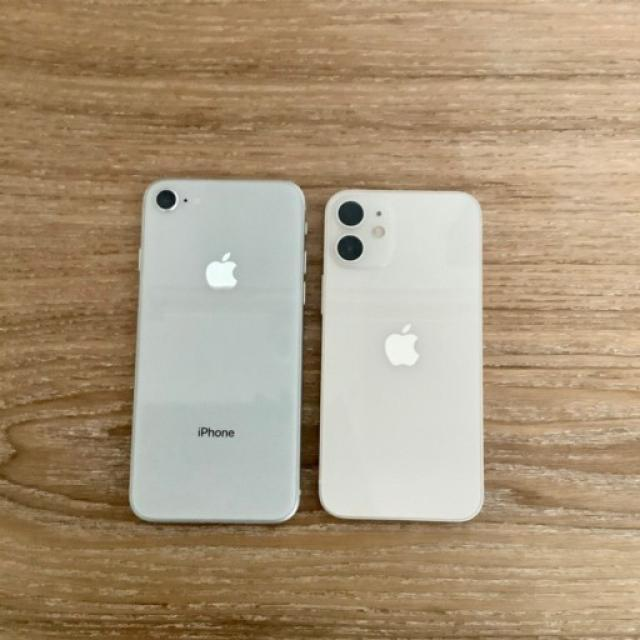phone: (136, 182, 302, 523), (324, 191, 482, 524)
